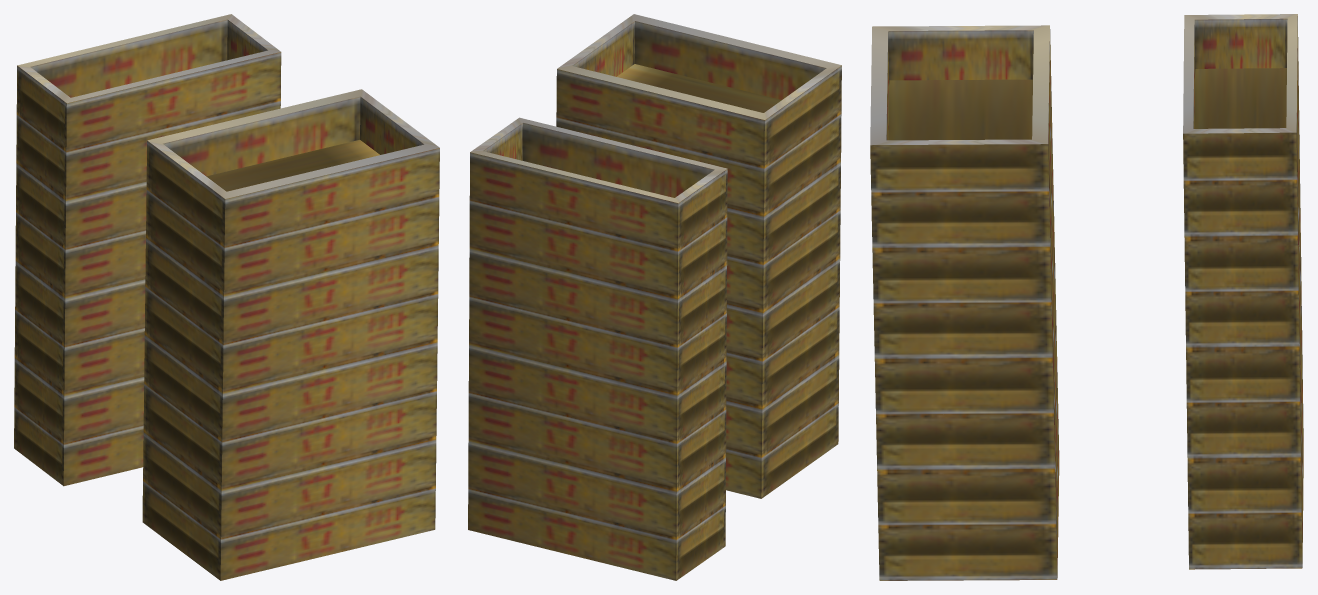
Rendered from bread_box.fbx.
3 renders of one model, left to right at view 1: azimuth 30°, elevation 25°; view 2: azimuth 150°, elevation 25°; view 3: azimuth 270°, elevation 25°, orthographic. The views are drawn at different scales.
Visible parts, largest first — view 1: polySurface81, polySurface80; view 2: polySurface80, polySurface81; view 3: polySurface81, polySurface80.
Boxes of the visible parts, x1=… form: polySurface81: x1=142, y1=89, x2=439, y2=580; polySurface80: x1=14, y1=14, x2=281, y2=486; polySurface80: x1=468, y1=117, x2=727, y2=580; polySurface81: x1=556, y1=14, x2=841, y2=498; polySurface81: x1=870, y1=25, x2=1059, y2=580; polySurface80: x1=1183, y1=14, x2=1303, y2=569.
Size of the model in its own units: 34.1 by 53.45 by 47.98.
